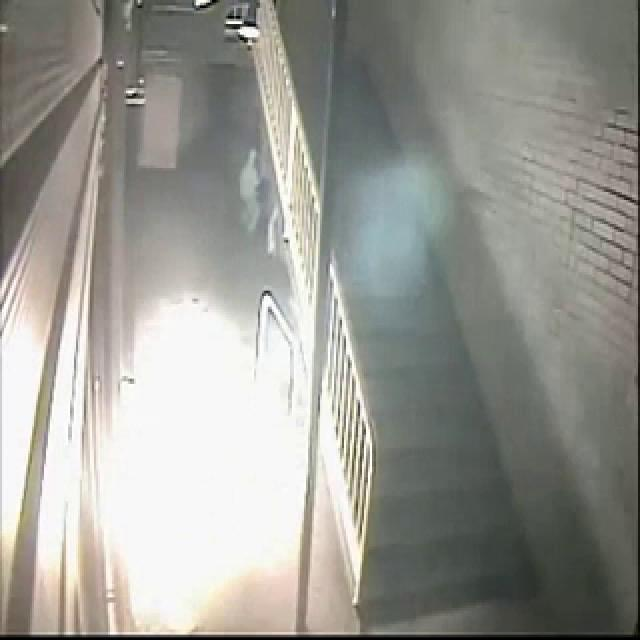arson: (129, 35, 325, 616)
